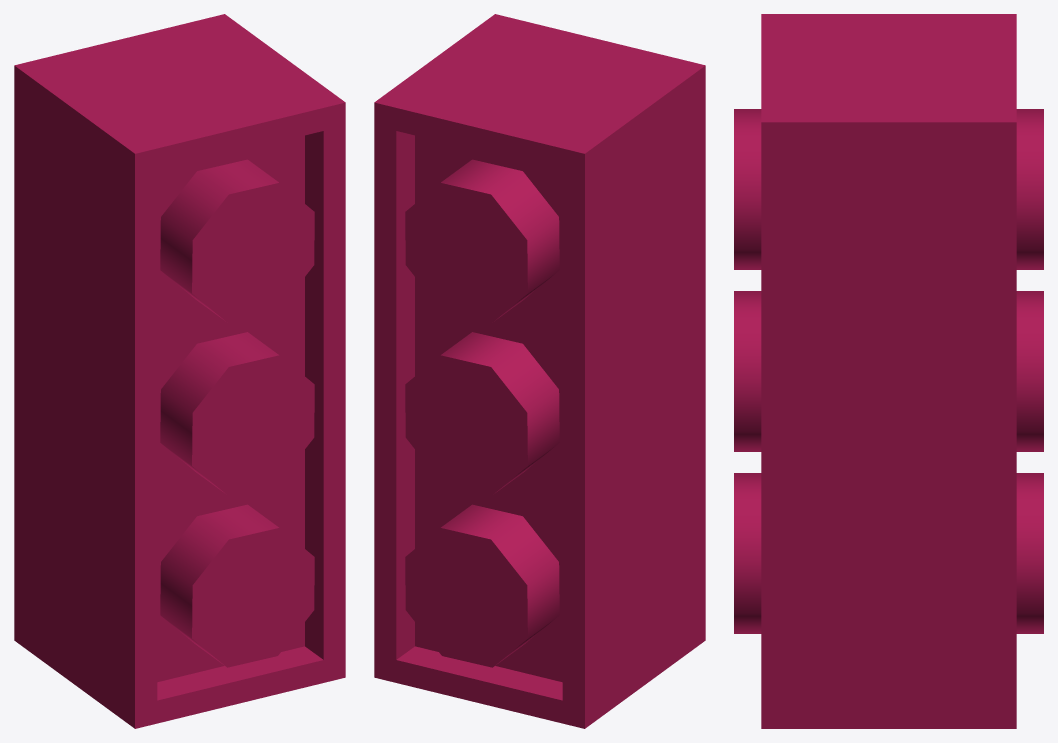
File: Part_Traffic_light.FBX
3 views of the same model, side by side, from view 1: azimuth 30°, elevation 25°; view 2: azimuth 150°, elevation 25°; view 3: azimuth 270°, elevation 25° (orthographic). The views are drawn at different scales.
Parts seen in each view (by area): view 1: Part_Traffic_light; view 2: Part_Traffic_light; view 3: Part_Traffic_light.
Part boxes in pixels (left/top/right/bottom): Part_Traffic_light: left=14, top=14, right=345, bottom=728; Part_Traffic_light: left=374, top=14, right=705, bottom=728; Part_Traffic_light: left=734, top=14, right=1043, bottom=728.
Bounding box in the file's own units: 95.81 × 250 × 116.
